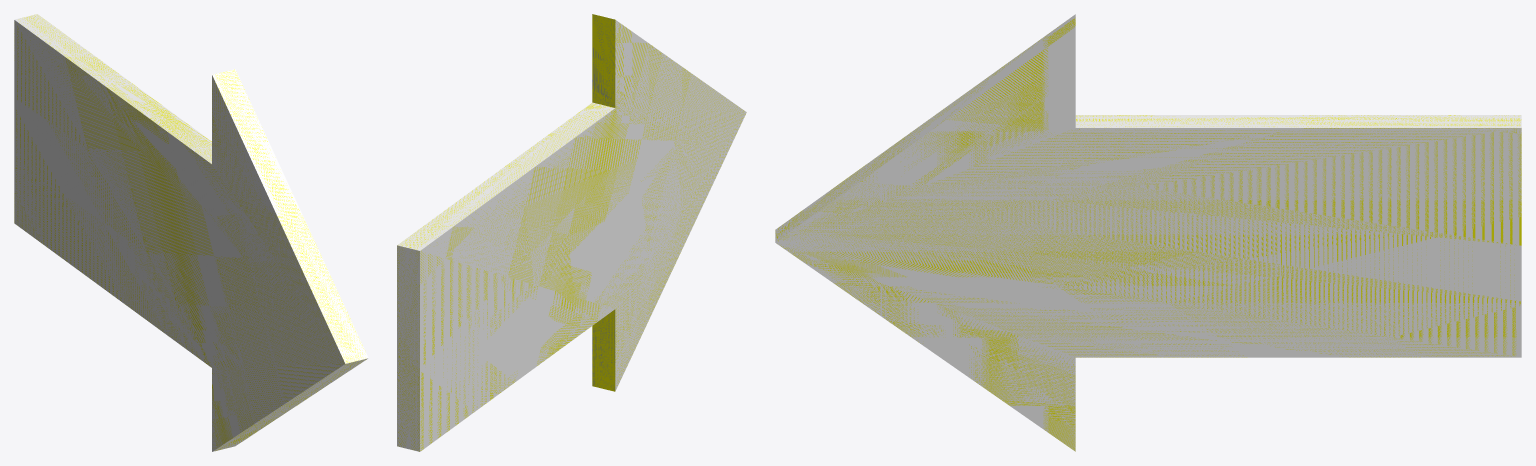
Rendered from Arrow.fbx.
3 renders of one model, left to right at view 1: azimuth 30°, elevation 25°; view 2: azimuth 150°, elevation 25°; view 3: azimuth 270°, elevation 25°, orthographic. The views are drawn at different scales.
Parts seen in each view (by area): view 1: Arrow2; view 2: Arrow2; view 3: Arrow2.
Part boxes in pixels (x1,y1,x2,y2): Arrow2: (14,14,368,451); Arrow2: (397,14,746,451); Arrow2: (775,14,1521,451).
Size of the model in its own units: 8.57 by 133 by 211.
